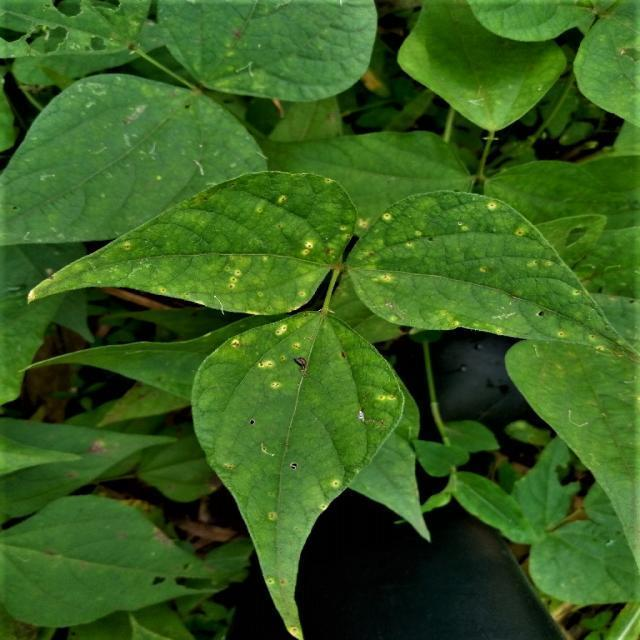hawar: (54, 88, 238, 220), (4, 0, 178, 80)
mozaik: (226, 328, 341, 580), (371, 218, 565, 331)
